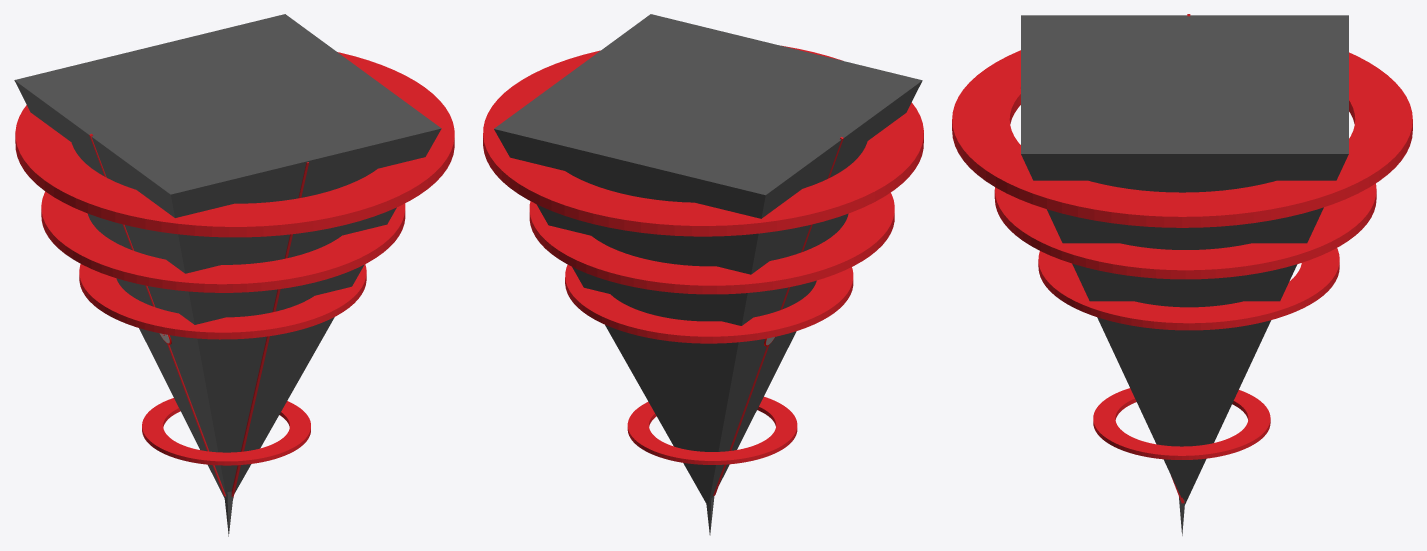
The model's file is Temple.obj.
3 views of the same model, side by side, from view 1: azimuth 30°, elevation 25°; view 2: azimuth 150°, elevation 25°; view 3: azimuth 270°, elevation 25° (orthographic). The views are drawn at different scales.
Visible parts, largest first — view 1: Object.2, Object.1; view 2: Object.2, Object.1; view 3: Object.2, Object.1.
Boxes of the visible parts, box(x1,y1,x2,y2) form: Object.2: box(14, 14, 454, 536); Object.1: box(142, 398, 310, 465); Object.2: box(483, 14, 923, 535); Object.1: box(627, 396, 797, 464); Object.2: box(952, 14, 1412, 535); Object.1: box(1093, 388, 1270, 459).
Size of the model in its own units: 61.65 by 67.08 by 61.65.
